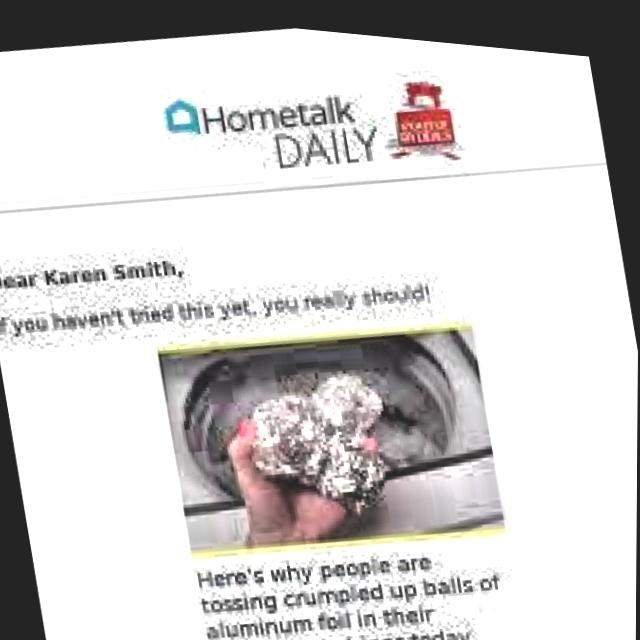Foil: (218, 345, 421, 534)
